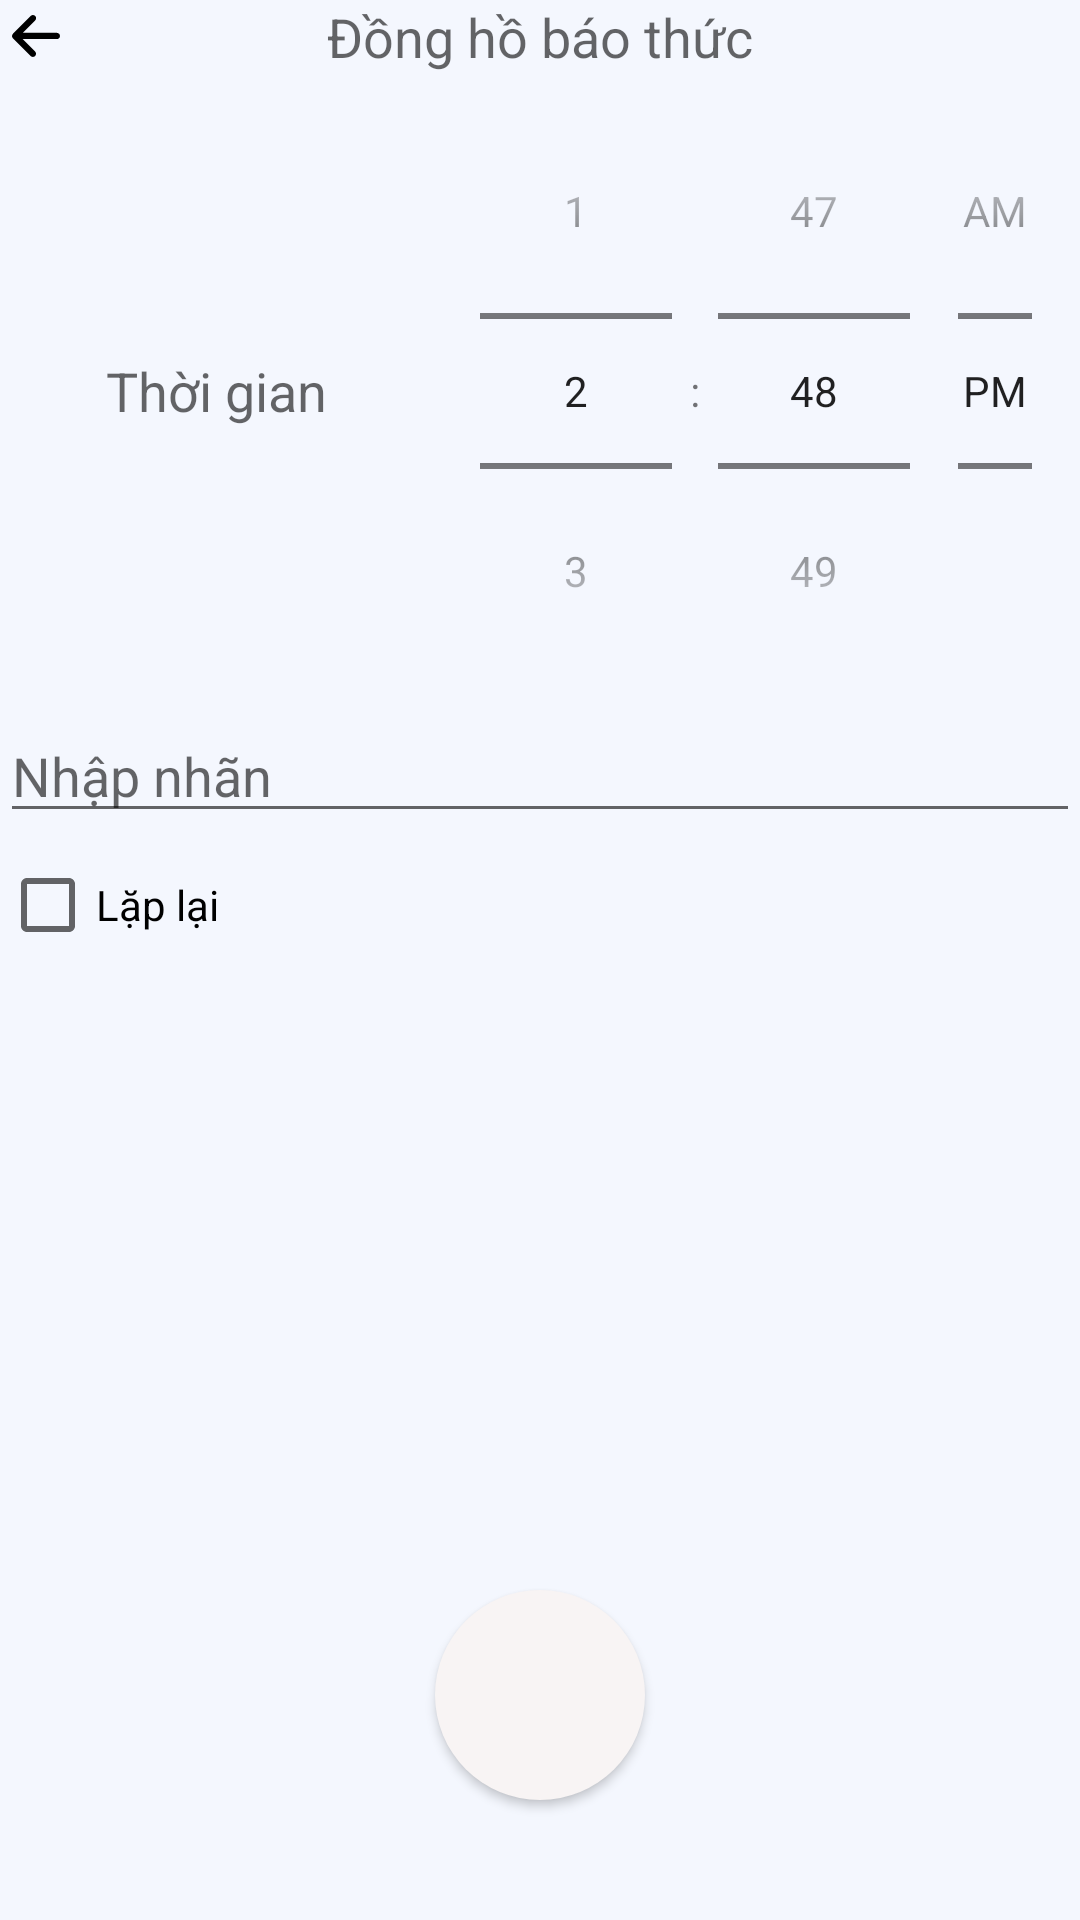

Screen size 1080x1920. Icon name, then its center in pixels as (x,y):
back: (36,36)
